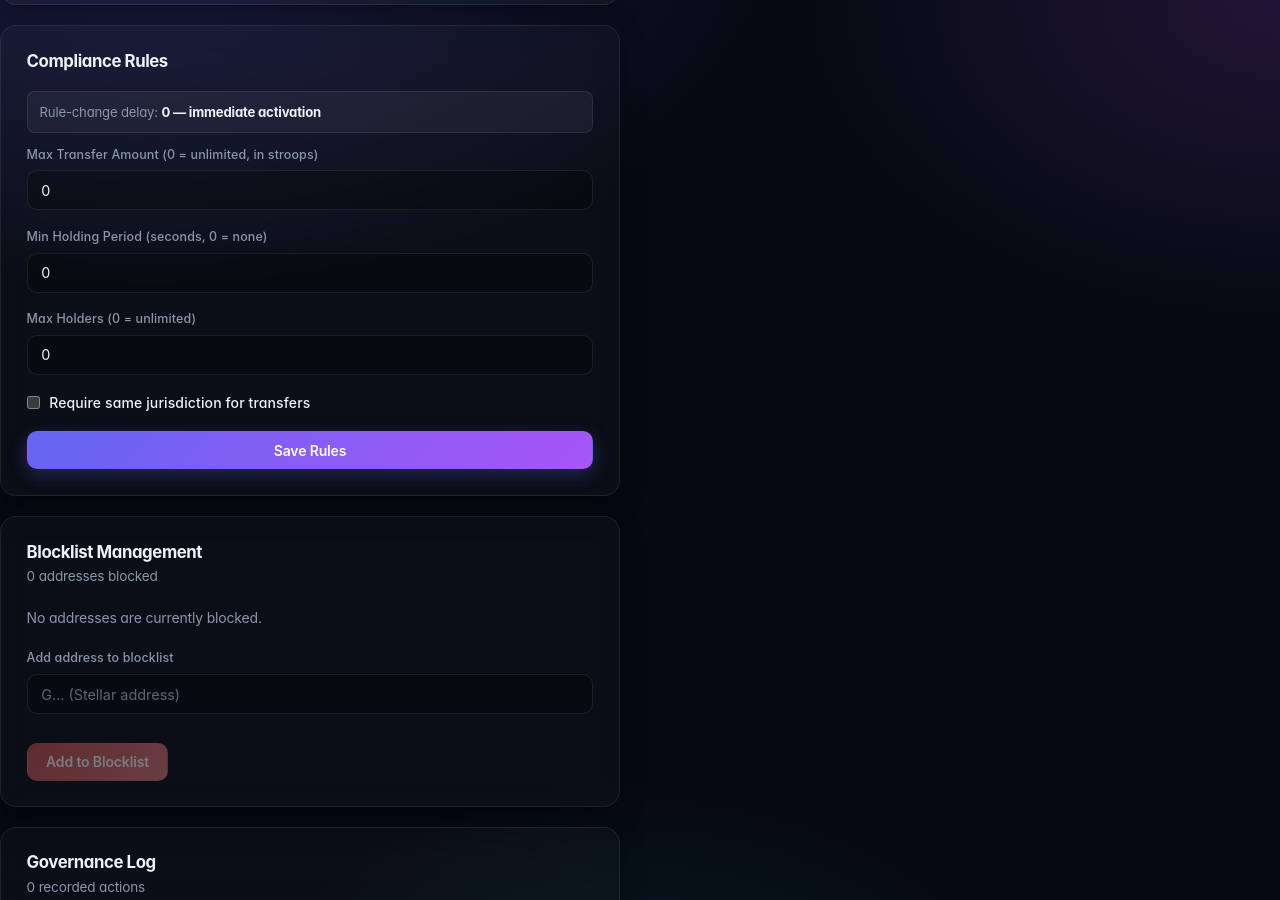
Scenario: AdminPage – compliance rules form › shows a confirmation dialog when Save Rules is submitted
(page scrolled)
What coordinates should you click on to do the following:
click the button "Save Rules"
I would click on:
 (310, 450)
Its box is 27,431 -> 593,469.
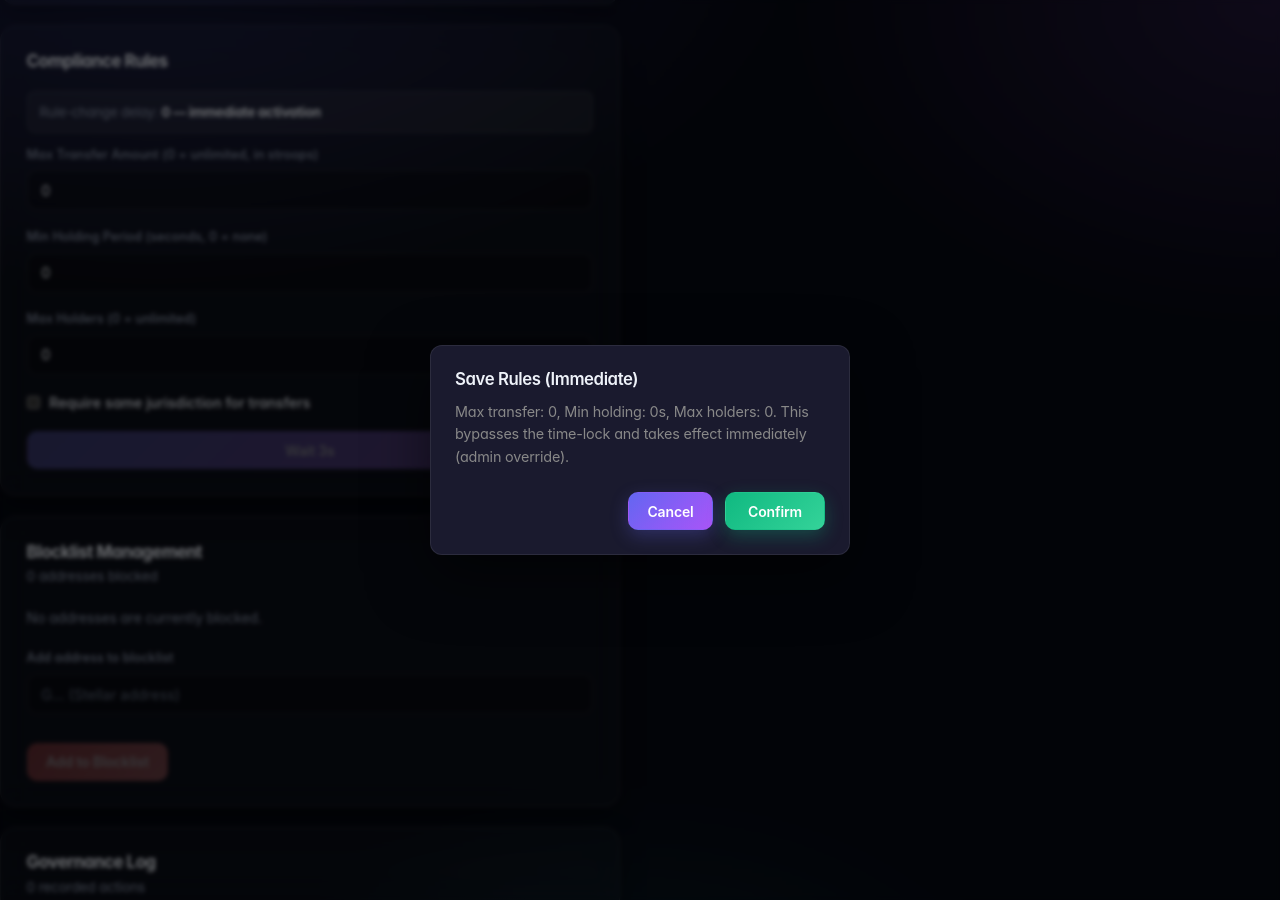
expect the dialog is shown: met
